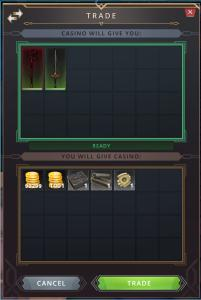gold: (21, 168, 43, 189), (45, 169, 66, 189)
